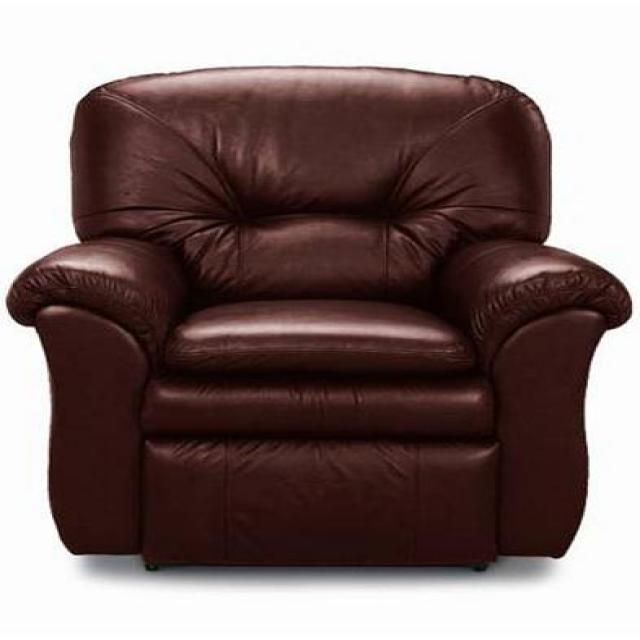sofa: (5, 65, 633, 572)
